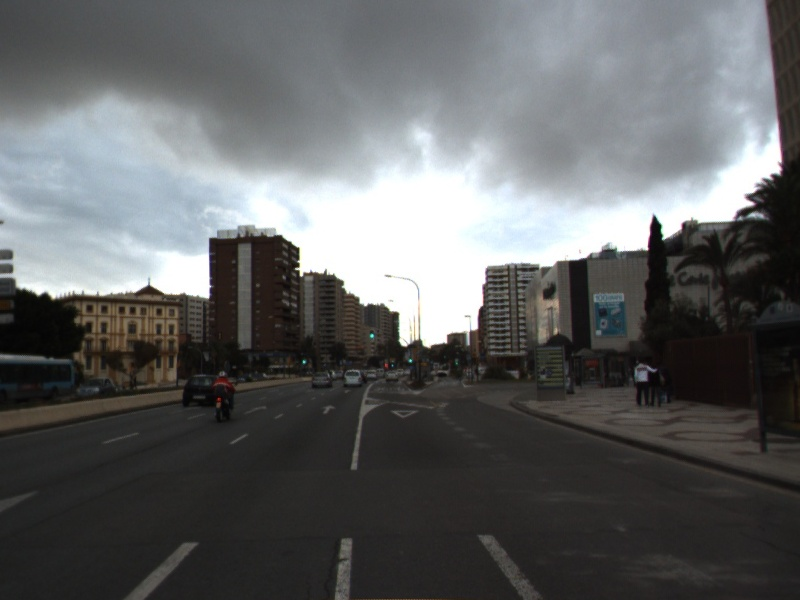STRAIGHT: (241, 403, 269, 417), (318, 403, 338, 416)
